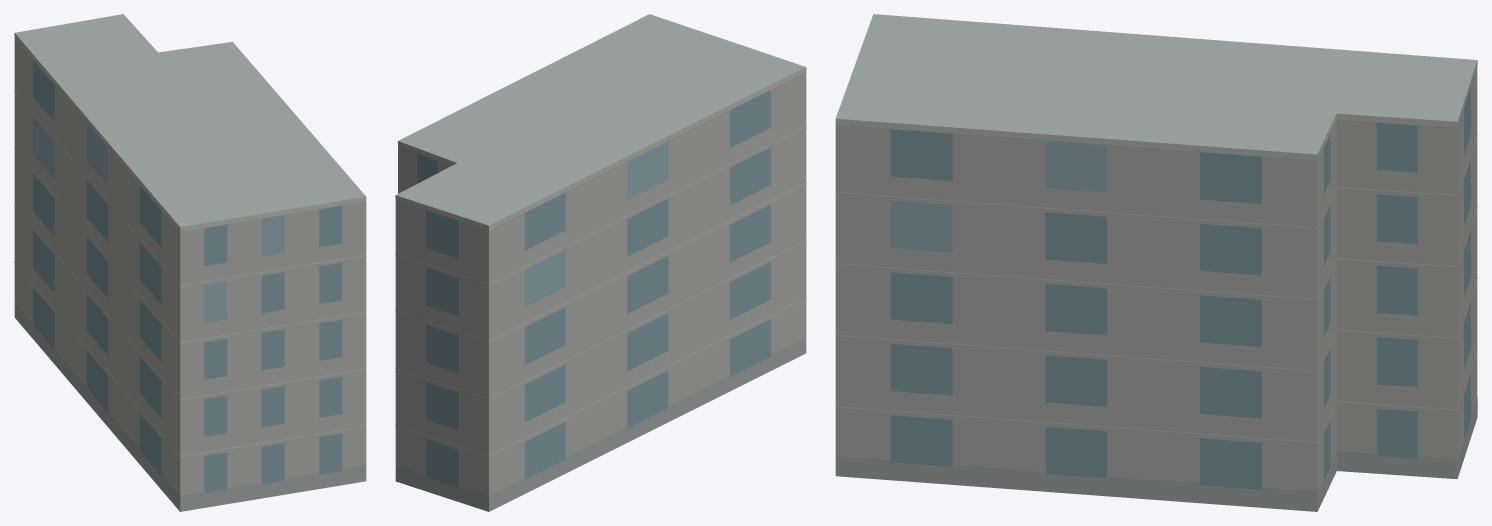
Rendered from survey-upis-32826118.glb.
3 renders of one model, left to right at view 1: azimuth 30°, elevation 25°; view 2: azimuth 150°, elevation 25°; view 3: azimuth 270°, elevation 25°, orthographic. The views are drawn at different scales.
Visible parts, largest first — view 1: survey-upis-32826118.tmp; view 2: survey-upis-32826118.tmp; view 3: survey-upis-32826118.tmp.
Part boxes in pixels (x1=…): survey-upis-32826118.tmp: x1=14, y1=14, x2=366, y2=511; survey-upis-32826118.tmp: x1=395, y1=14, x2=806, y2=511; survey-upis-32826118.tmp: x1=835, y1=14, x2=1477, y2=511.
Size of the model in its own units: 12.64 by 14.96 by 24.38.
